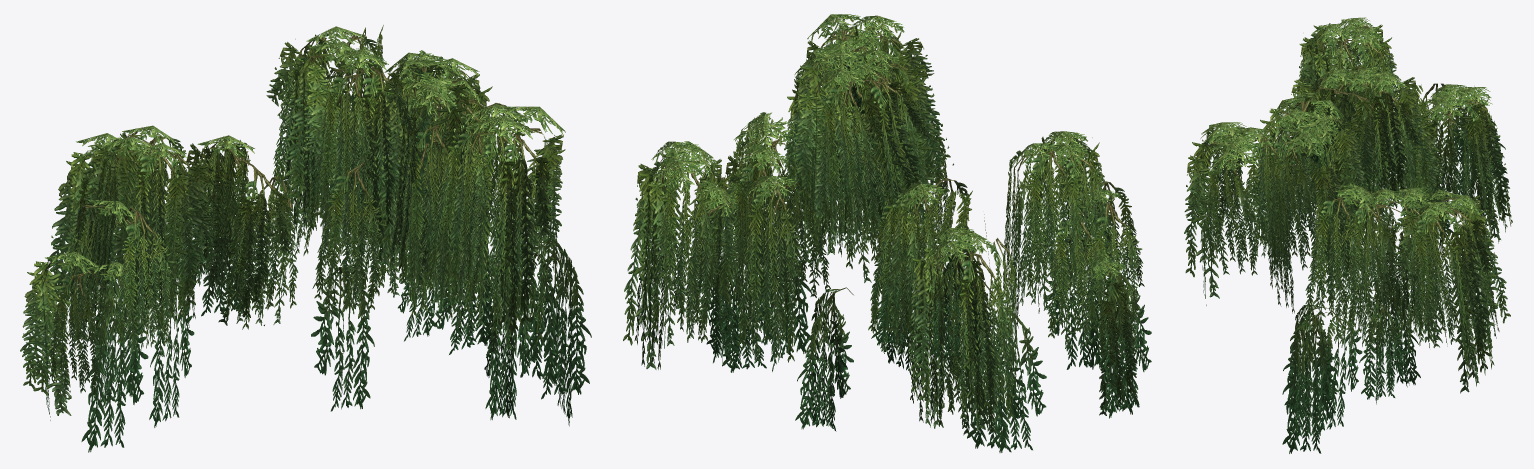
Rendered from Yland1_yz_02 Yland1.FBX.
3 renders of one model, left to right at view 1: azimuth 30°, elevation 25°; view 2: azimuth 150°, elevation 25°; view 3: azimuth 270°, elevation 25°, orthographic. The views are drawn at different scales.
Parts seen in each view (by area): view 1: Yland1_yz_02 Yland1; view 2: Yland1_yz_02 Yland1; view 3: Yland1_yz_02 Yland1.
Boxes of the visible parts, bbox=[...] form: Yland1_yz_02 Yland1: bbox=[20, 25, 591, 452]; Yland1_yz_02 Yland1: bbox=[623, 14, 1151, 452]; Yland1_yz_02 Yland1: bbox=[1184, 17, 1512, 453].
Bounding box in the file's own units: 8.46 × 6.27 × 6.05.
